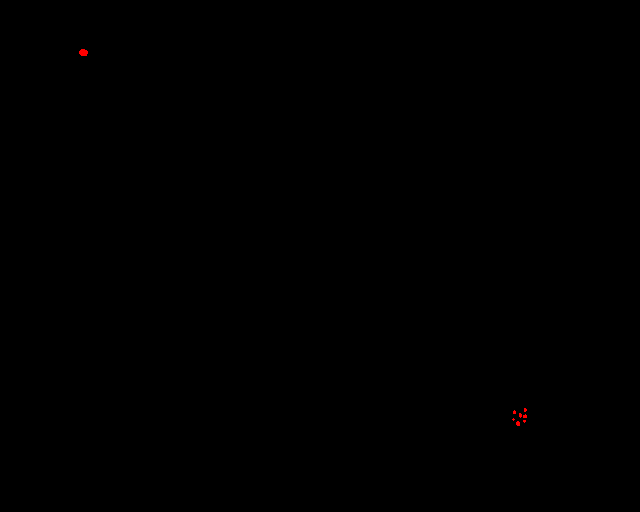Target: (79, 49, 88, 56), (516, 421, 520, 426), (523, 414, 527, 418), (519, 413, 522, 418), (524, 408, 527, 412), (513, 410, 516, 414), (512, 418, 515, 421), (523, 420, 526, 423)
